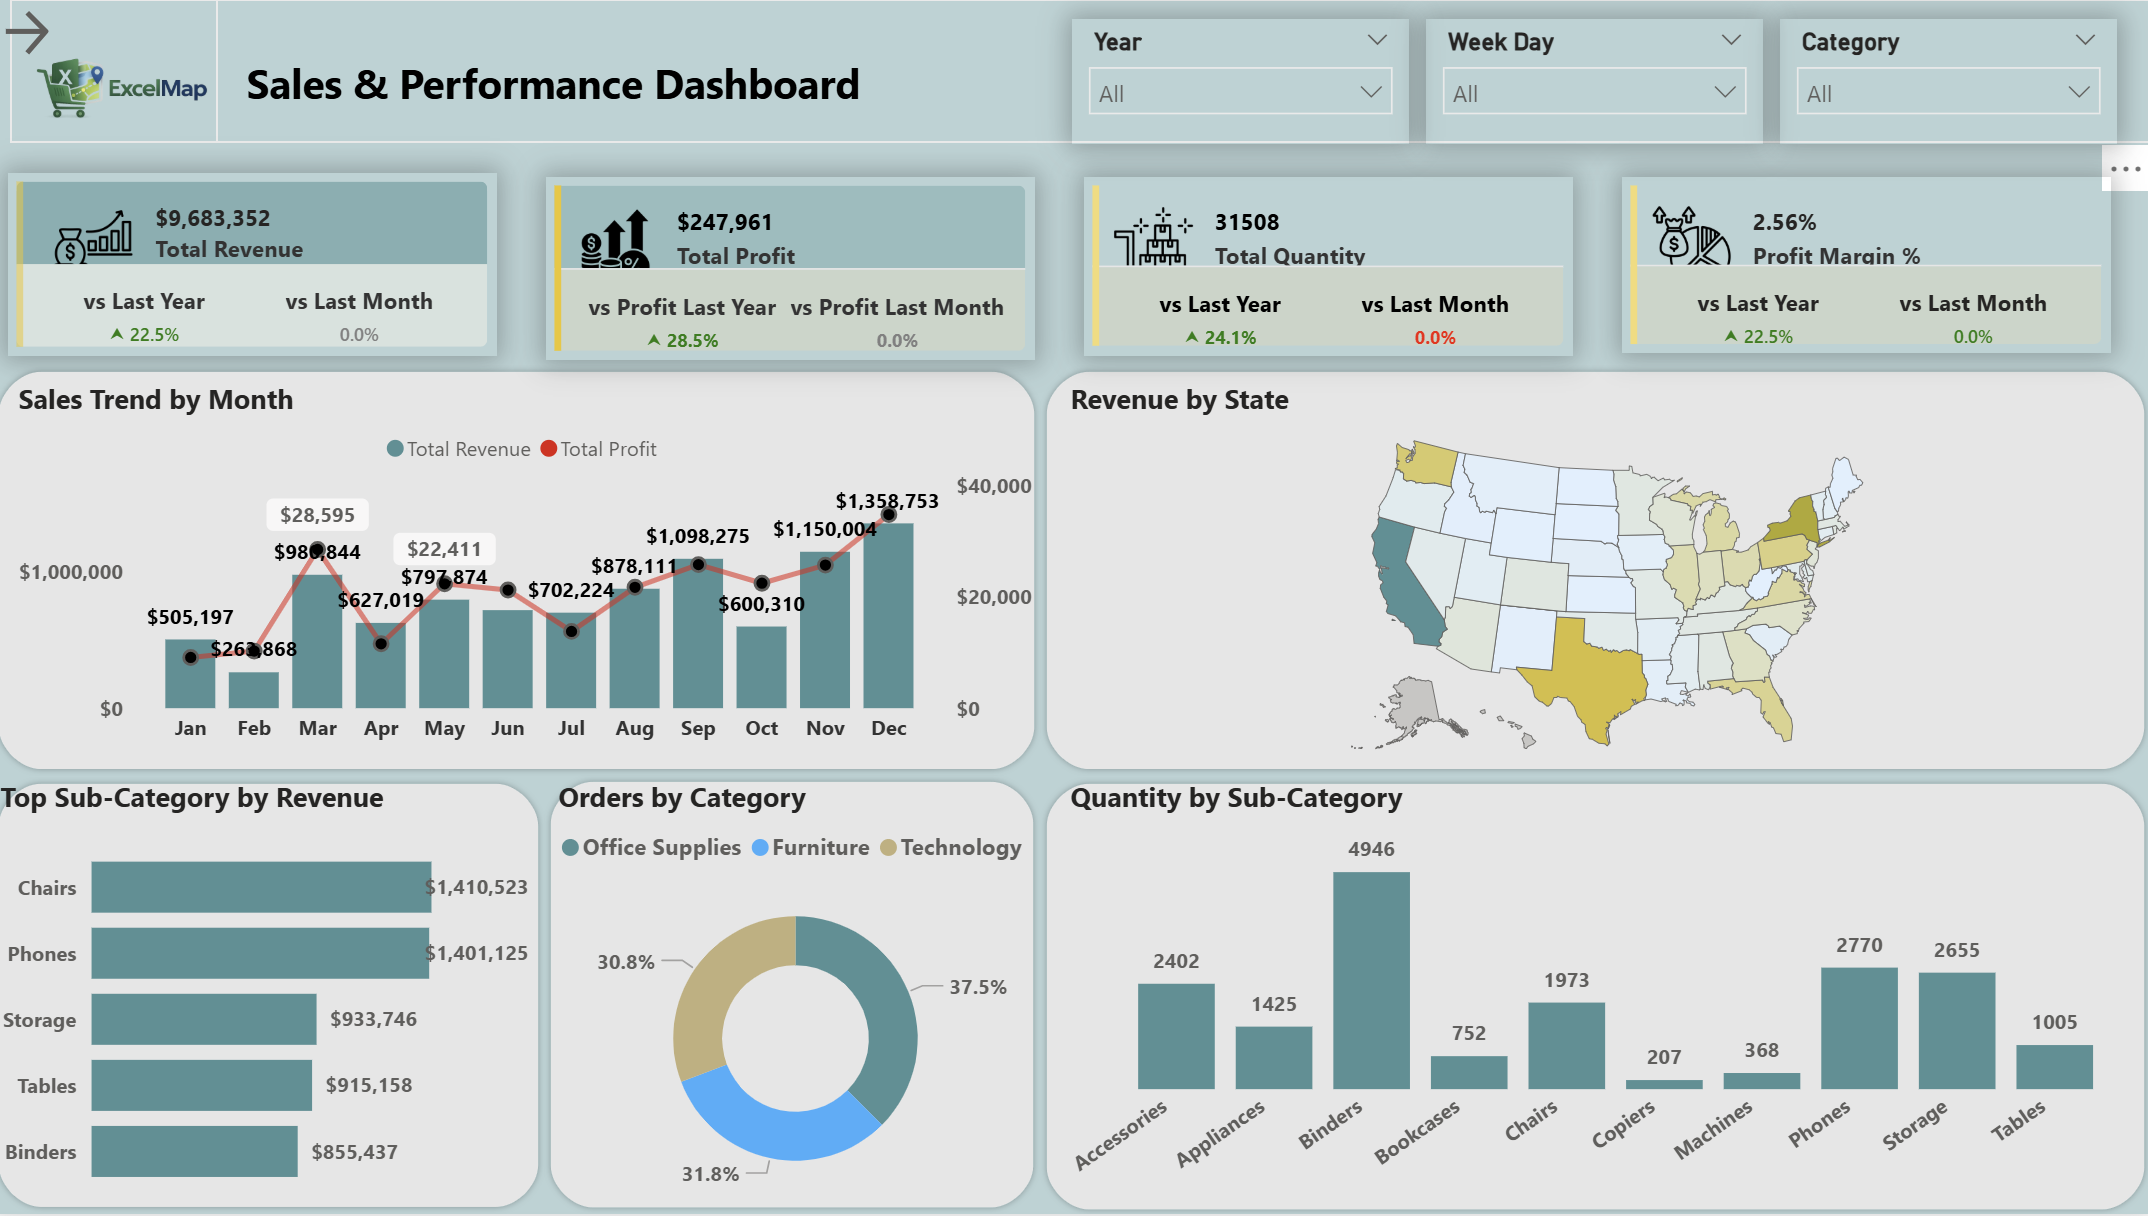

Layout of this report page (visuals, bound fields, positions):
{"tool":"powerbi","page":{"name":"Sales Dashboard Overview","canvas":[1280,720],"ordinal":0},"visuals":[{"type":"shape","box":[10.2,0,135.1,85.4],"z":0,"group":"g1"},{"type":"shape","box":[621.6,217.4,658.4,243.4],"z":0},{"type":"shape","box":[132.6,0,1147.4,85.4],"z":1000,"group":"g1"},{"type":"shape","box":[5.1,96.9,298.3,117.3],"z":2000},{"type":"group","id":"g1","title":"Group 1","box":[10.2,0,1269.8,85.4],"z":3000},{"type":"image","box":[2.5,3.8,139,102],"z":4000},{"type":"textbox","box":[145.3,28,391.4,52.3],"z":5000},{"type":"cardVisual","fields":{"Data":["Sales_Data_Measures.Total Revenue"]},"box":[8.9,103,289.4,108.4],"z":6000},{"type":"slicer","fields":{"Values":["Sales_Data.Category"]},"box":[1059.4,11.5,200.2,73.9],"z":7000},{"type":"slicer","fields":{"Values":["Date.Week Day"]},"box":[849.7,11.5,200.2,73.9],"z":8000},{"type":"shape","box":[0,217.4,621.6,243.4],"z":9000},{"type":"shape","box":[0,460.9,327.7,258.8],"z":10000},{"type":"shape","box":[323.8,92.8,298.3,117.3],"z":11000},{"type":"shape","box":[642.5,92.8,298.3,117.3],"z":12000},{"type":"shape","box":[961.3,92.8,298.3,117.3],"z":13000},{"type":"cardVisual","fields":{"Data":["Sales_Data_Measures.Total Profit"]},"box":[328.1,105.8,289.4,108.4],"z":14000},{"type":"cardVisual","fields":{"Data":["Sales_Data_Measures.Total Quantity"]},"box":[647.2,105.8,289.4,105.8],"z":15000},{"type":"cardVisual","fields":{"Data":["Sales_Data_Measures.Profit Margin %"]},"box":[966.4,105.8,289.4,104.5],"z":16000},{"type":"slicer","fields":{"Values":["Date.Year"]},"box":[640,11.5,200.2,73.9],"z":17000},{"type":"barChart","title":"Top Sub-Category by Revenue","fields":{"Y":["Sales_Data_Measures.Total Revenue"],"Category":["Sales_Data.Sub-Category"]},"box":[0,460.9,323.1,258.8],"z":18000},{"type":"lineClusteredColumnComboChart","title":"Sales Trend by Month","fields":{"Category":["Date.Month Name"],"Y":["Sales_Data_Measures.Total Revenue"],"Y2":["Sales_Data_Measures.Total Profit"]},"box":[10.7,225.1,610.9,225.1],"z":19000},{"type":"shape","box":[327.7,459.3,294,260.3],"z":20000},{"type":"donutChart","title":"Orders by Category","fields":{"Y":["Sales_Data_Measures.Total Orders"],"Category":["Sales_Data.Category"]},"box":[330.7,460.9,290.9,258.8],"z":20001},{"type":"shapeMap","title":"Revenue by State","fields":{"Category":["Sales_Data.State"],"Value":["Sales_Data_Measures.Total Revenue"]},"box":[633.9,225.1,646.1,234.3],"z":20002},{"type":"shape","box":[621.6,460.9,658.4,260.3],"z":20003},{"type":"clusteredColumnChart","title":"Quantity by Sub-Category","fields":{"Y":["Sales_Data_Measures.Total Quantity"],"Category":["Sales_Data.Sub-Category"]},"box":[633.6,461.5,640,255],"z":20004},{"type":"actionButton","box":[0,0,100,39.7],"z":20005}]}

Visuals, with their boxes in screenshot pixels (x1, y1, x2, y2), scaled from the page's 1280x720 canvas onto the 2148x1216 screenshot:
shape: [17, 0, 244, 144]
shape: [1043, 367, 2147, 778]
shape: [223, 0, 2147, 144]
shape: [9, 164, 509, 362]
"Group 1" group: [17, 0, 2147, 144]
image: [4, 6, 237, 179]
textbox: [244, 47, 901, 136]
cardVisual - Sales_Data_Measures.Total Revenue: [15, 174, 501, 357]
slicer - Sales_Data.Category: [1778, 19, 2114, 144]
slicer - Date.Week Day: [1426, 19, 1762, 144]
shape: [0, 367, 1043, 778]
shape: [0, 778, 550, 1215]
shape: [543, 157, 1044, 355]
shape: [1078, 157, 1579, 355]
shape: [1613, 157, 2114, 355]
cardVisual - Sales_Data_Measures.Total Profit: [551, 179, 1036, 362]
cardVisual - Sales_Data_Measures.Total Quantity: [1086, 179, 1572, 357]
cardVisual - Sales_Data_Measures.Profit Margin %: [1622, 179, 2107, 355]
slicer - Date.Year: [1074, 19, 1410, 144]
"Top Sub-Category by Revenue" barChart: [0, 778, 542, 1215]
"Sales Trend by Month" lineClusteredColumnComboChart: [18, 380, 1043, 760]
shape: [550, 776, 1043, 1215]
"Orders by Category" donutChart: [555, 778, 1043, 1215]
"Revenue by State" shapeMap: [1064, 380, 2147, 776]
shape: [1043, 778, 2147, 1215]
"Quantity by Sub-Category" clusteredColumnChart: [1063, 779, 2137, 1210]
actionButton: [0, 0, 168, 67]
